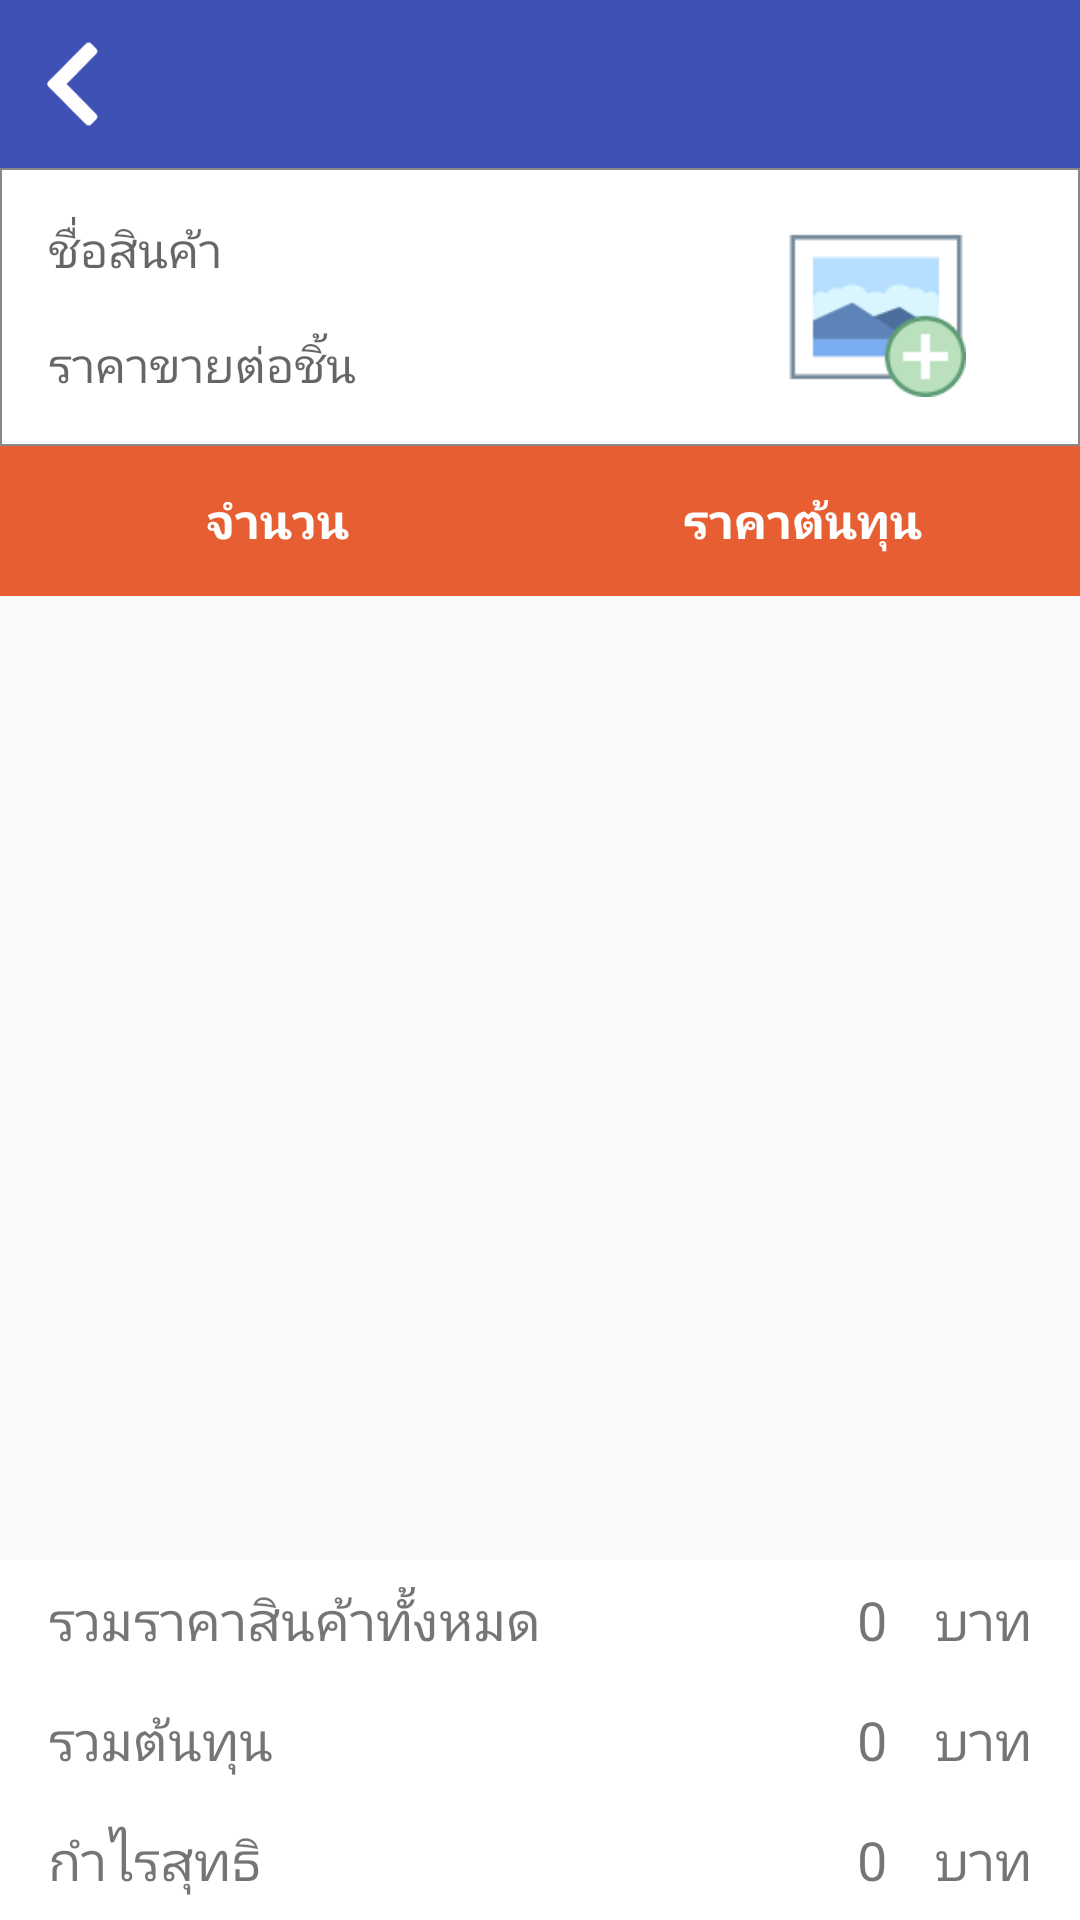

Icon bounding boxes for this 1080px x 1920px phone screenshot, format (x1, y1, x2, y2):
back: (47, 42, 98, 126)
